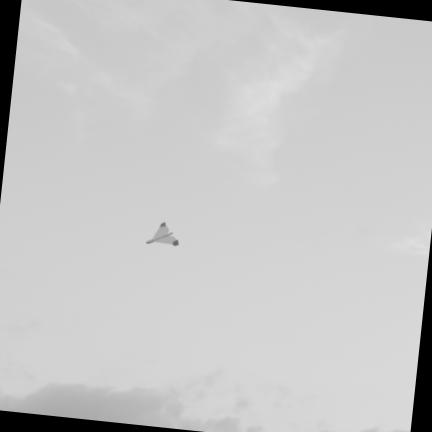Shahed: (146, 222, 179, 247)
